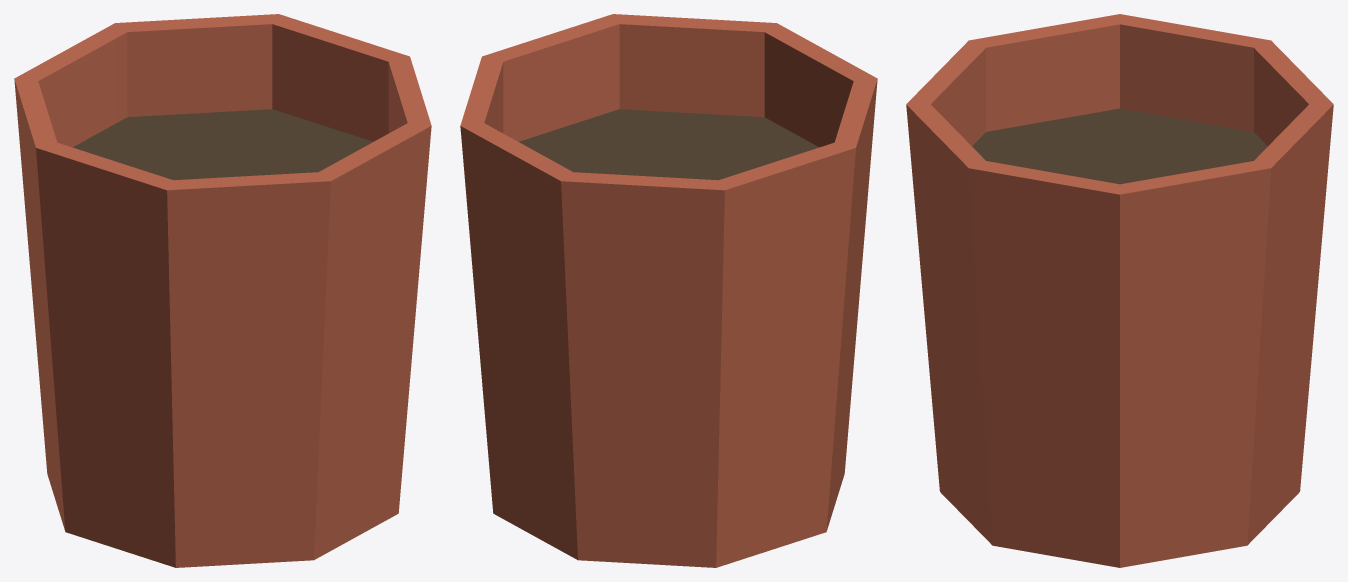
The model's file is Maseta pequeña.fbx.
3 renders of one model, left to right at view 1: azimuth 30°, elevation 25°; view 2: azimuth 150°, elevation 25°; view 3: azimuth 270°, elevation 25°, orthographic.
Parts seen in each view (by area): view 1: pCylinder22; view 2: pCylinder22; view 3: pCylinder22.
Part boxes in pixels (box(x1,y1,x2,y2)): pCylinder22: box(14, 14, 431, 567); pCylinder22: box(460, 14, 877, 567); pCylinder22: box(906, 14, 1333, 567).
Bounding box in the file's own units: 2 × 2 × 2.
